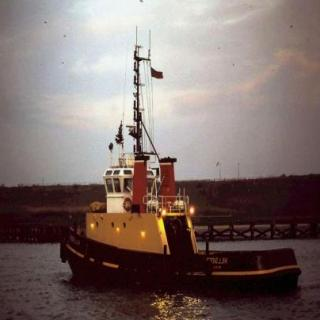Tug Boat: (57, 23, 306, 287)
